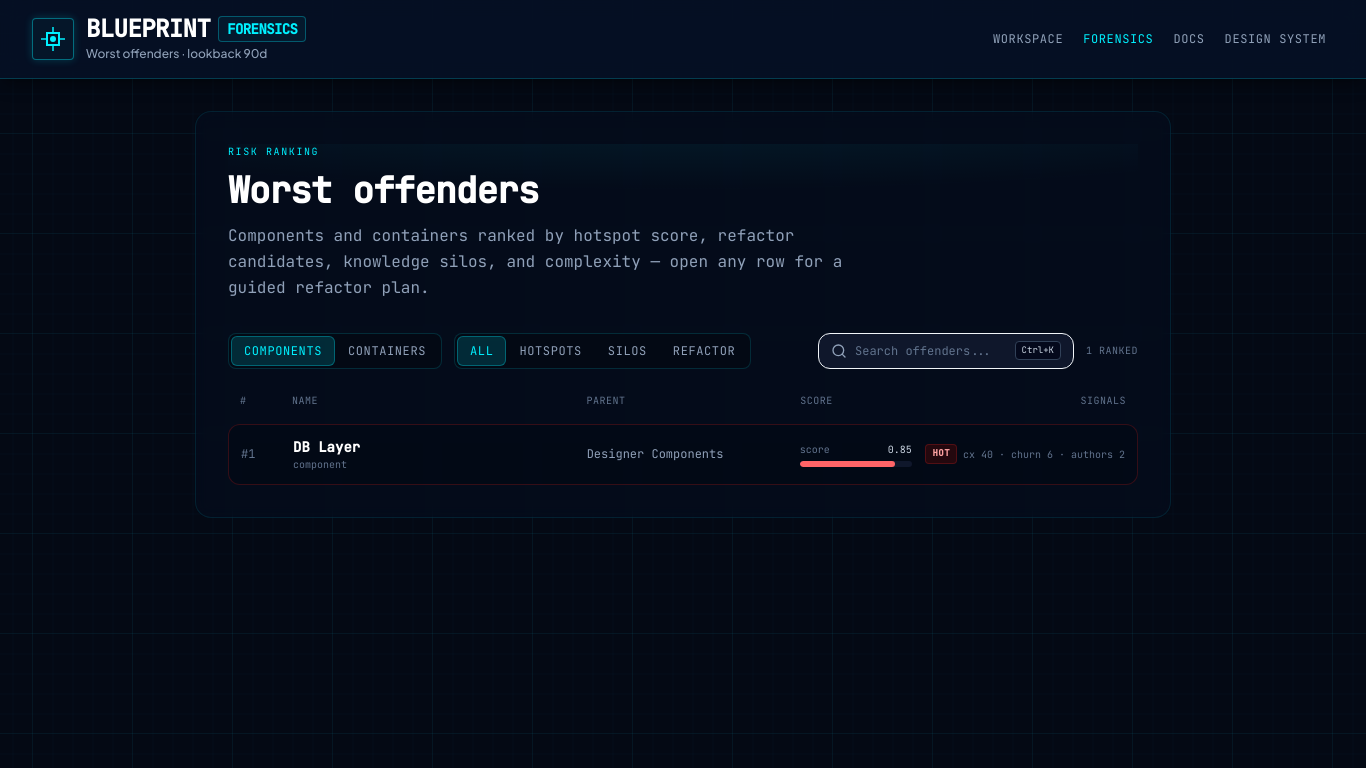
Test: ForensicsPage › opens refactor plan slide-over when an offender row is clicked
Click the button with test id "offender-row-app/designer/db": (683, 454) top-left (228, 424), bottom-right (1138, 485)
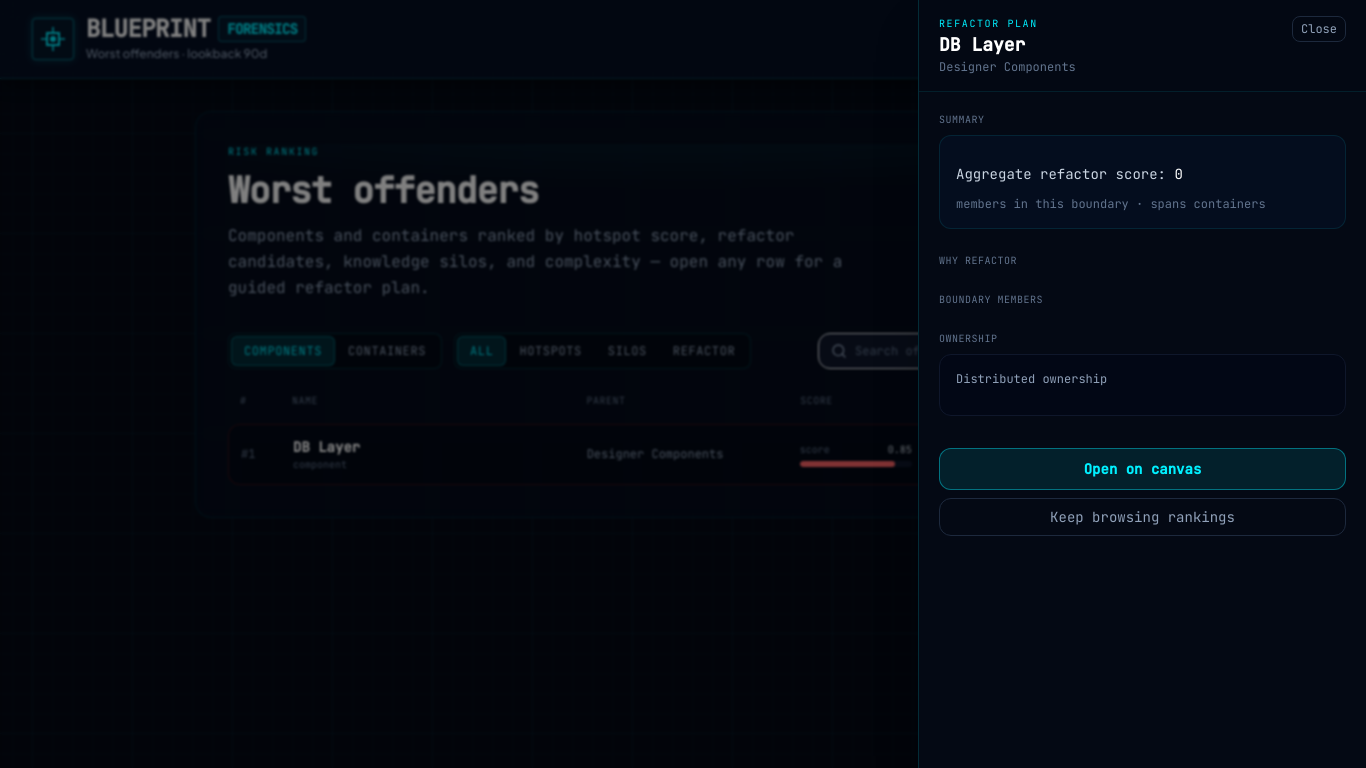
Expected: the dialog with test id "refactor-plan-slide-over" is shown
Expected: the text "Refactor plan" is shown, top-left (939, 17), bottom-right (1038, 30)
